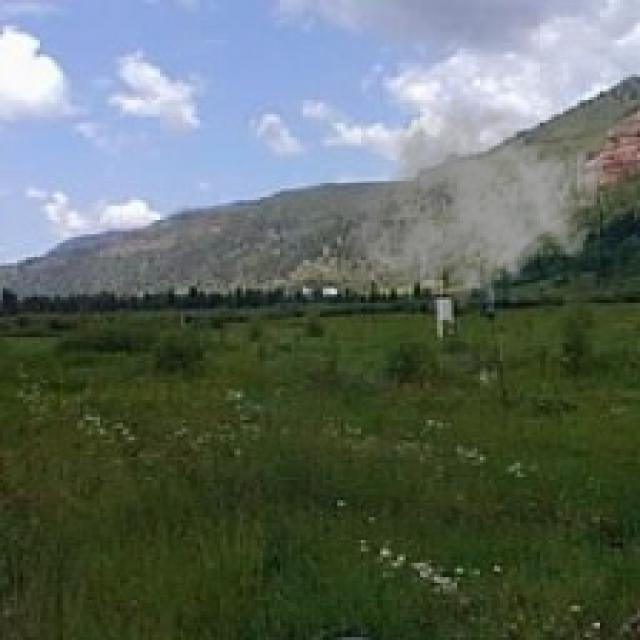Smoke: (346, 94, 606, 317)
